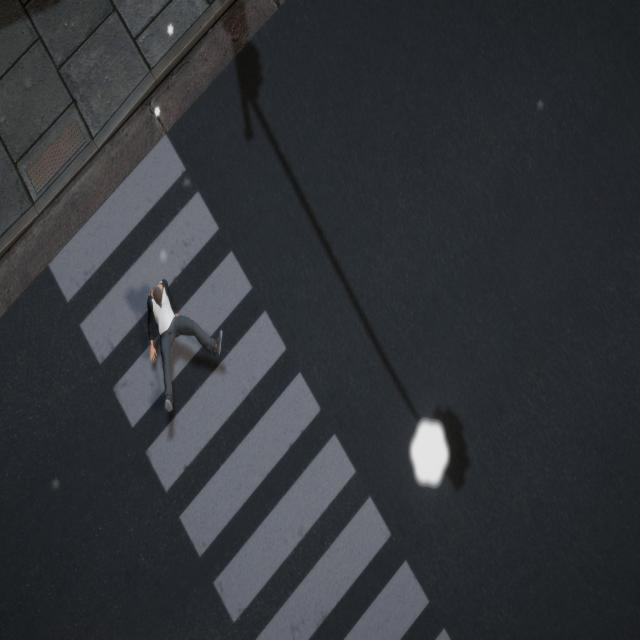Human: (146, 272, 228, 438)
